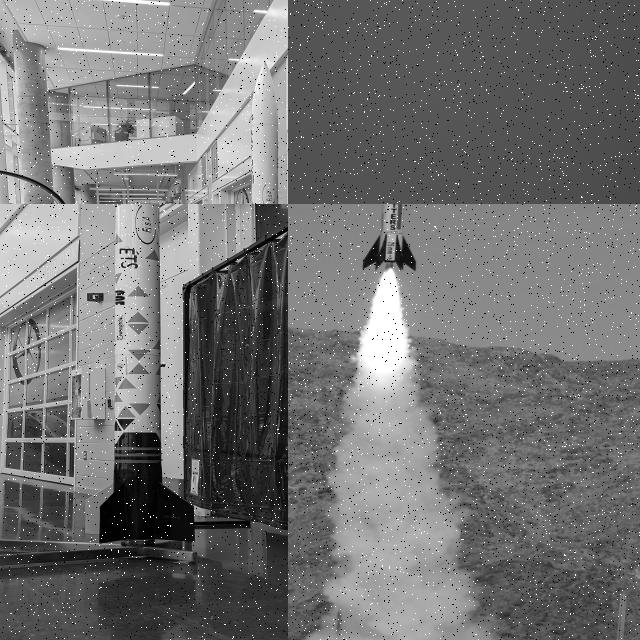Rocket: (85, 204, 195, 544), (251, 60, 278, 204), (361, 204, 417, 272)
